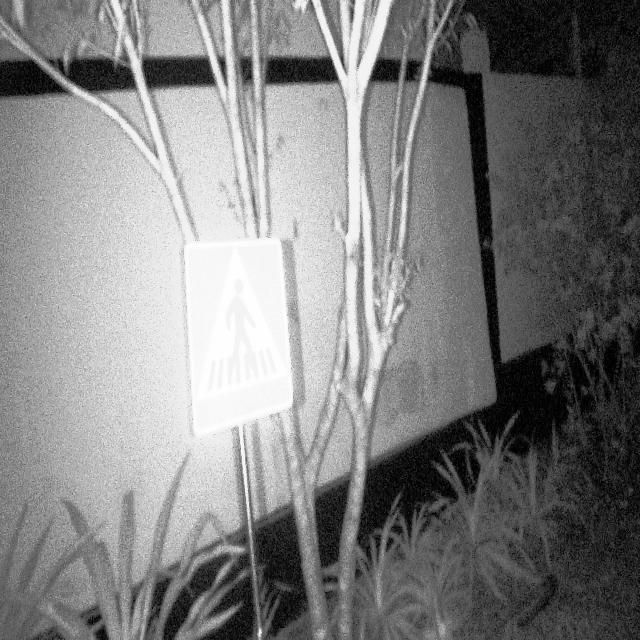Sign: (183, 236, 294, 440)
